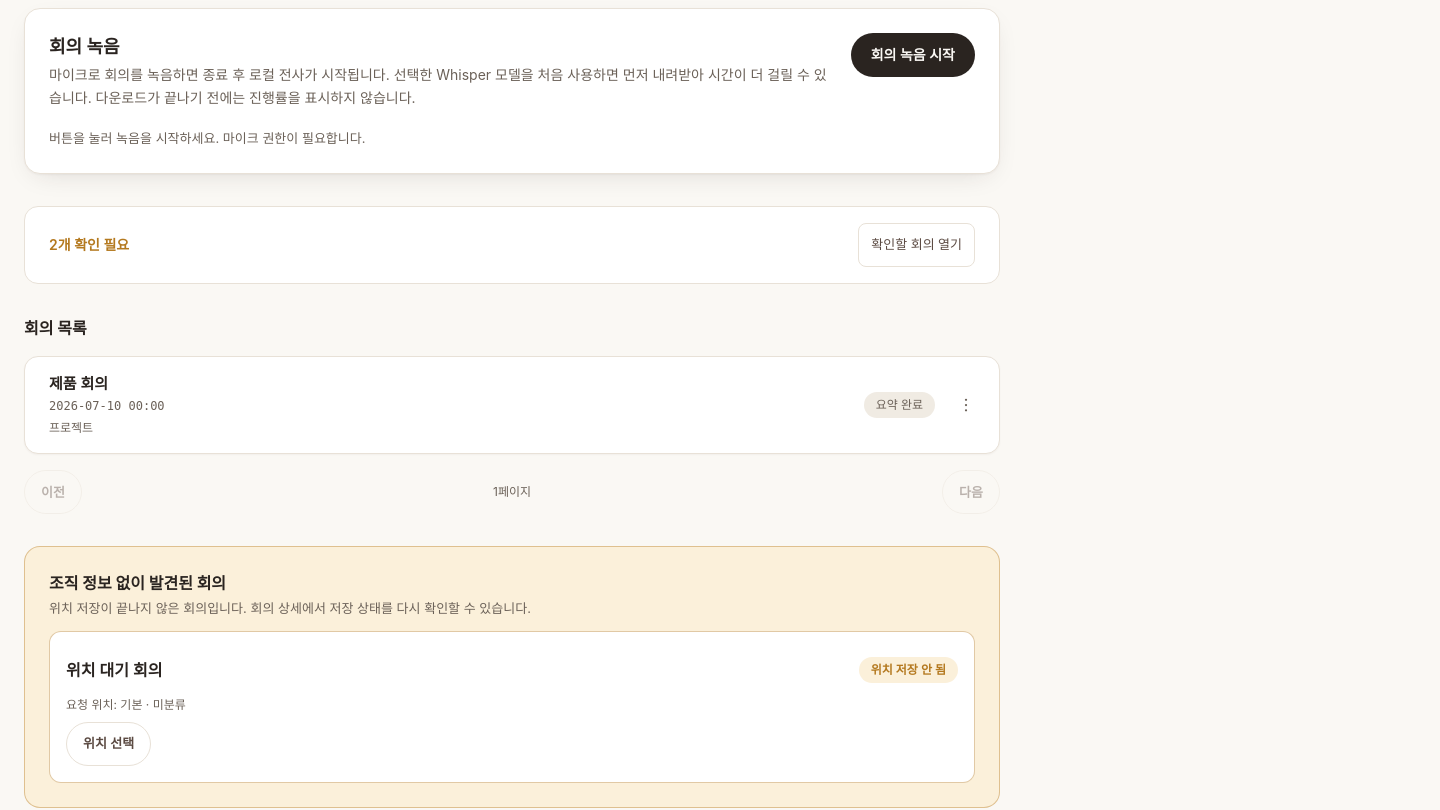
activated library navigation › uses global summary work, source-safe row links, pending provisional rows, and default-All recorder
(page scrolled)
Expected: the text "2개 확인 필요" is shown, [49,236,129,253]
Expected: the heading "조직 정보 없이 발견된 회의" is shown, [49,573,226,593]
Click the button named "제품 회의 관리 메뉴".
click(966, 405)  # box [944,383,988,427]
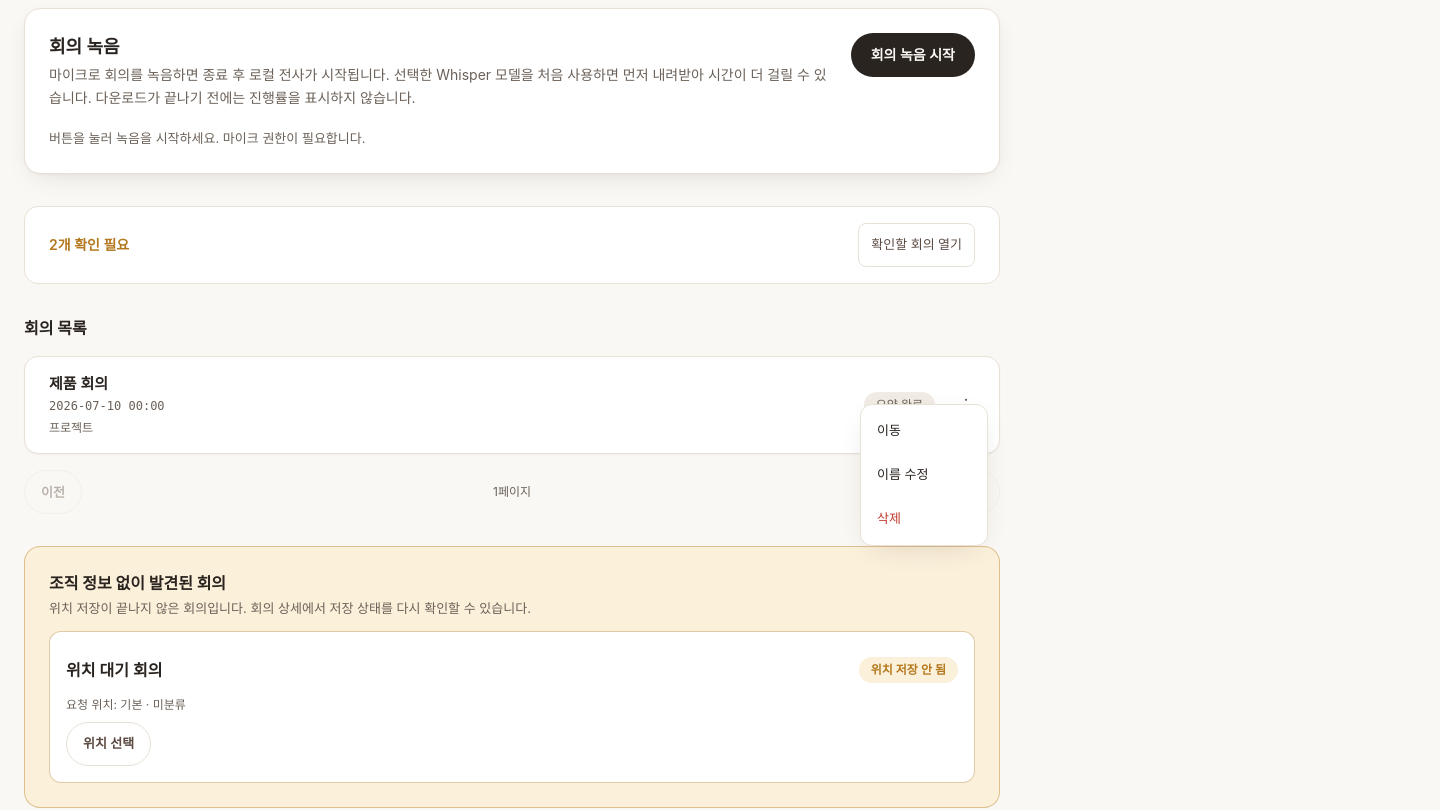
Now the button "이동" is shown, box [861,409,987,453]
